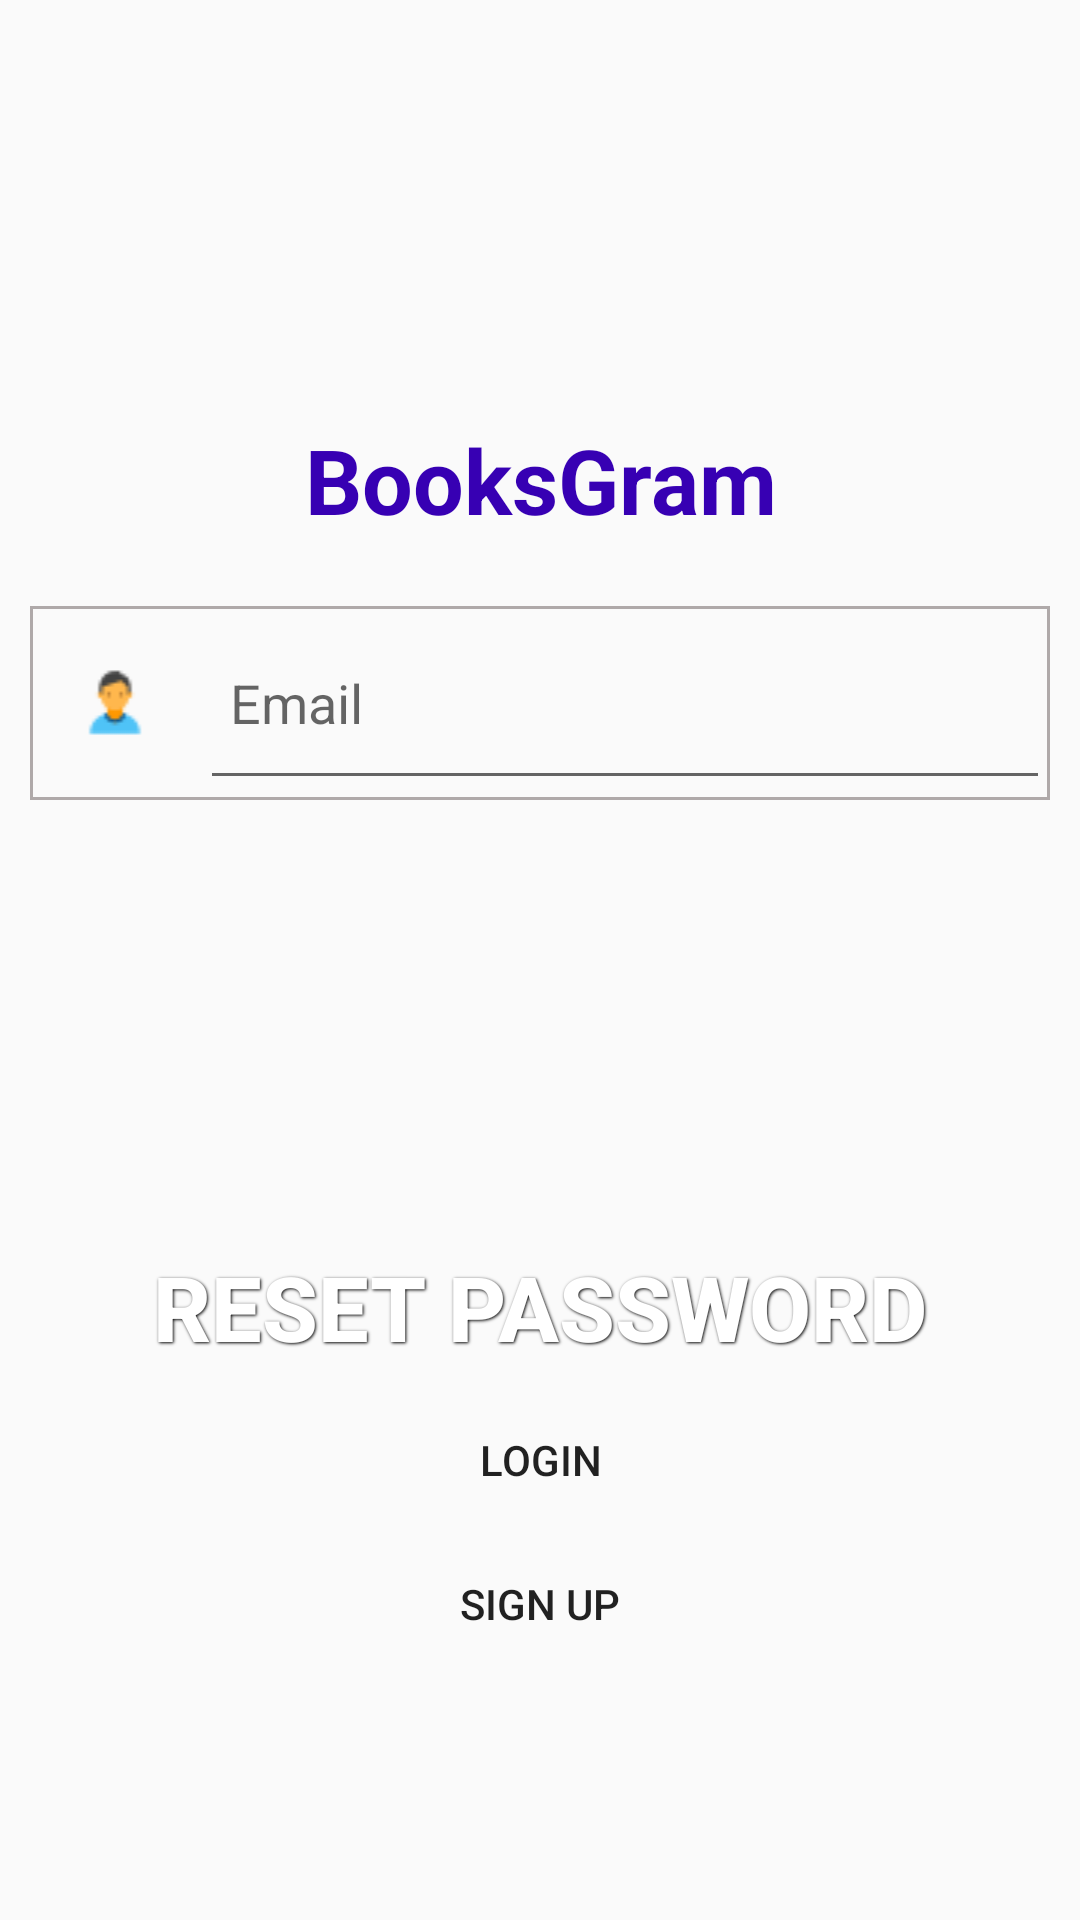

Where icons sit on this 1080px x 1920px app screen, as {"x1": x1, "y1": y1, "x2": x2, "y2": y2}:
user: {"x1": 89, "y1": 670, "x2": 141, "y2": 735}
